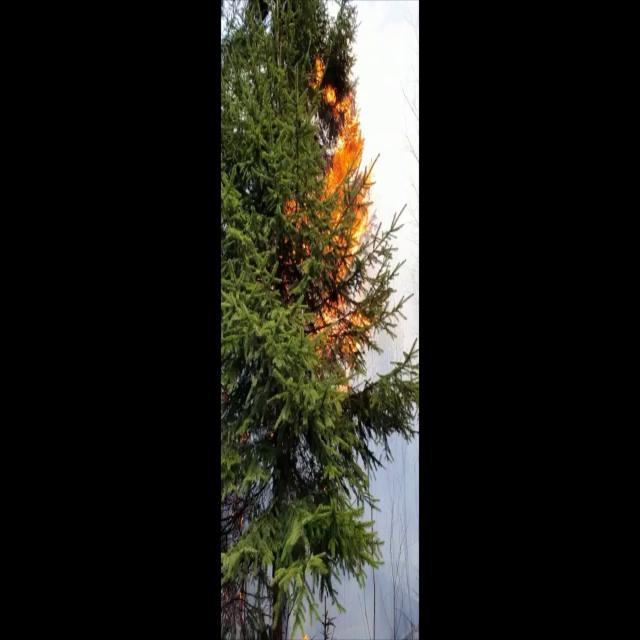Fire: (288, 62, 392, 396)
